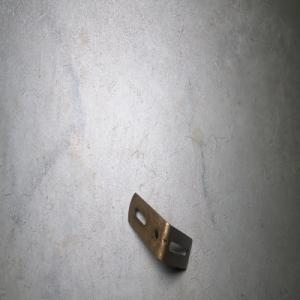MetalPart: (126, 191, 193, 271)
